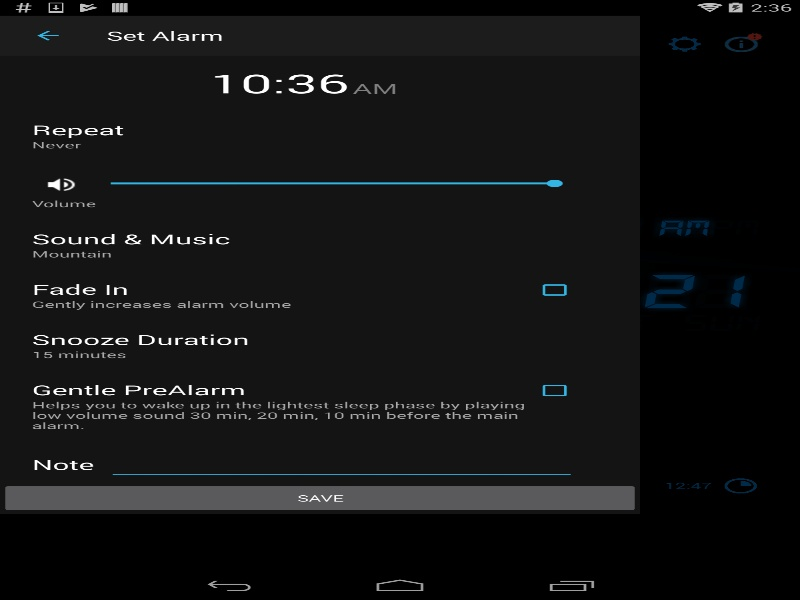Button: (0, 482, 640, 513), (10, 15, 85, 55), (656, 30, 712, 56), (712, 30, 768, 56), (32, 472, 88, 498), (712, 472, 768, 498)
Input: (107, 451, 576, 480)
